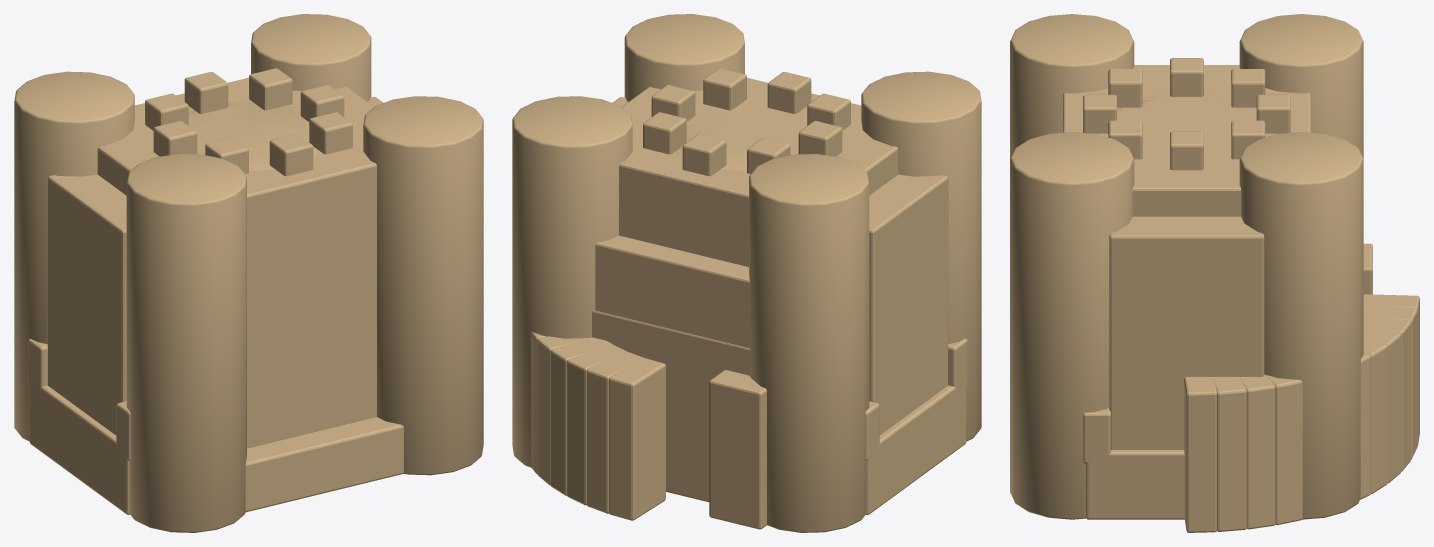
Rendered from castle-mould-library.glb.
3 views of the same model, side by side, from view 1: azimuth 30°, elevation 25°; view 2: azimuth 150°, elevation 25°; view 3: azimuth 270°, elevation 25° (orthographic). The views are drawn at different scales.
Parts seen in each view (by area): view 1: Fortress keep, Gatehouse, Round tower, Foundation, Bridge; view 2: Fortress keep, Curved wall, Gatehouse, Stairs, Round tower, Ramp, Corner wall, Bridge, Foundation; view 3: Fortress keep, Gatehouse, Curved wall, Round tower, Bridge, Corner wall.
Boxes of the visible parts, x1,y1,x2,y2 form: Fortress keep: (14,14,483,532); Gatehouse: (47,97,383,435); Round tower: (145,68,352,176); Foundation: (245,417,403,512); Bridge: (28,339,130,514); Fortress keep: (512,14,981,532); Curved wall: (531,332,665,520); Gatehouse: (612,97,948,435); Stairs: (595,235,749,348); Round tower: (643,68,850,176); Ramp: (592,310,750,502); Corner wall: (709,370,766,529); Bridge: (865,339,967,514); Foundation: (666,445,709,500); Fortress keep: (1010,14,1363,519); Gatehouse: (1109,216,1264,449); Curved wall: (1184,294,1419,532); Round tower: (1083,58,1290,170); Bridge: (1083,408,1184,519); Corner wall: (1363,243,1372,294).
Bounding box in the file's own units: 1.4 × 1.2 × 1.32.
